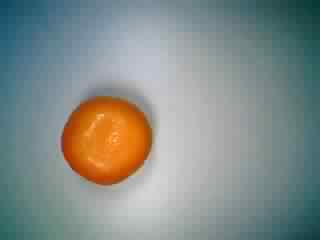orange: (57, 90, 155, 188)
